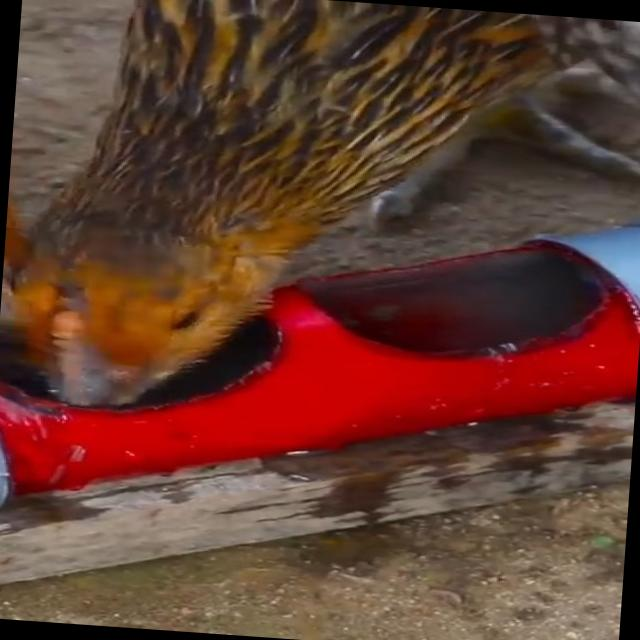feeding: (14, 0, 640, 456)
